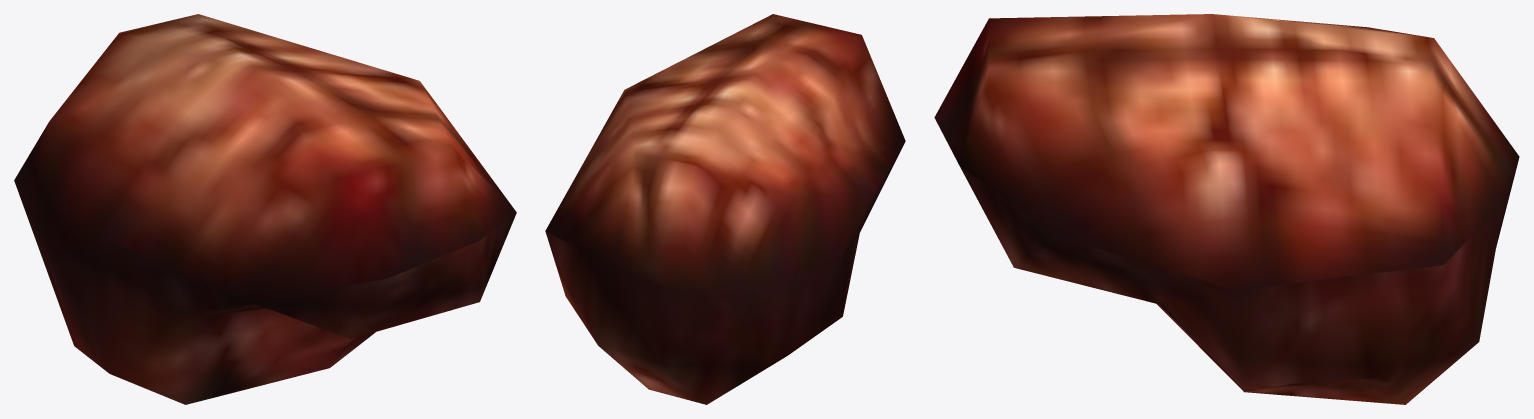
Rendered from Brain.glb.
3 views of the same model, side by side, from view 1: azimuth 30°, elevation 25°; view 2: azimuth 150°, elevation 25°; view 3: azimuth 270°, elevation 25° (orthographic). The views are drawn at different scales.
Visible parts, largest first — view 1: brain; view 2: brain; view 3: brain.
Part boxes in pixels (x1,y1,x2,y2): brain: [14, 14, 516, 404]; brain: [545, 14, 905, 404]; brain: [934, 14, 1519, 404].
Size of the model in its own units: 5.72 by 5.34 by 7.7.
1 material, 1 textured.
